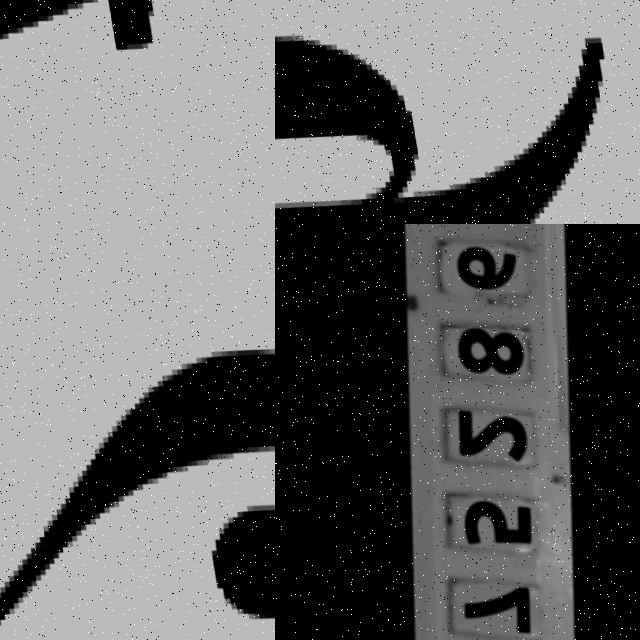2: (0, 306, 275, 640), (438, 394, 539, 474)
5: (439, 484, 547, 564)
6: (275, 0, 640, 224), (432, 227, 537, 305)
7: (439, 566, 542, 640)
8: (435, 311, 540, 391)
T: (0, 0, 275, 141)
